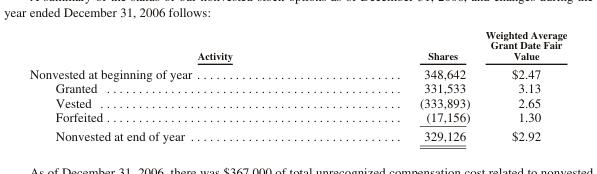table: (28, 28, 566, 143)
table column: (28, 28, 325, 143), (325, 28, 477, 143), (477, 28, 566, 143)
table column header: (28, 28, 566, 63)
table row: (28, 28, 566, 63), (28, 63, 566, 80), (28, 109, 566, 126), (28, 126, 566, 143), (28, 80, 566, 95), (28, 95, 566, 109)
